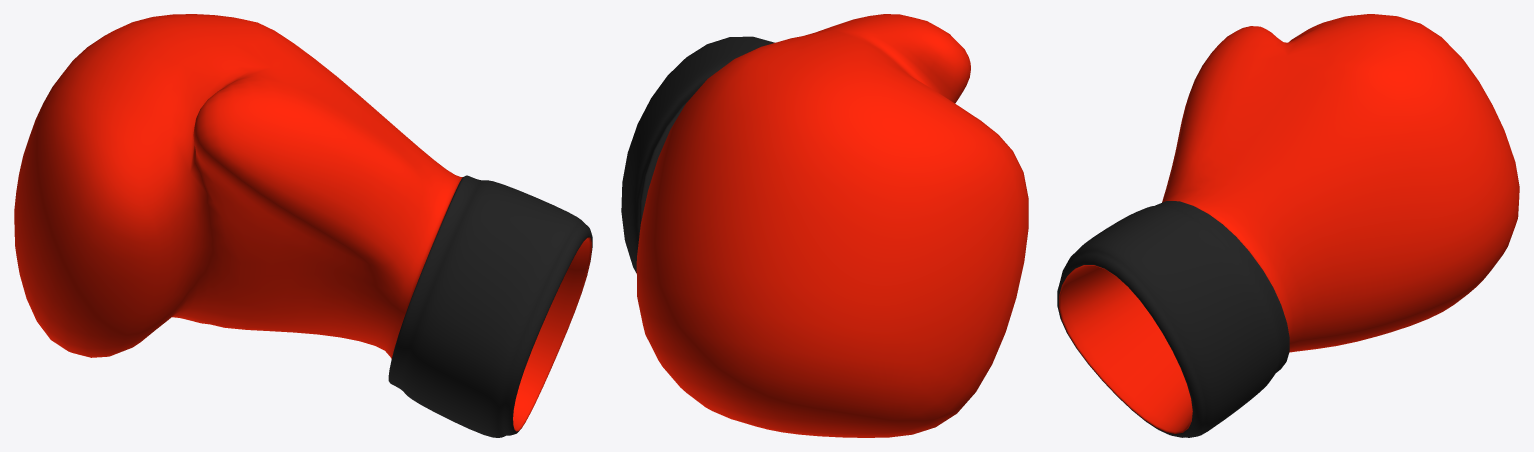
The model's file is right_Damage.fbx.
The picture shows the model from 3 angles, left to right: view 1: azimuth 30°, elevation 25°; view 2: azimuth 150°, elevation 25°; view 3: azimuth 270°, elevation 25°; orthographic projection. The views are drawn at different scales.
Visible parts, largest first — view 1: Boxing_Hand_Right_Damage; view 2: Boxing_Hand_Right_Damage; view 3: Boxing_Hand_Right_Damage.
Boxes of the visible parts, box(x1,y1,x2,y2) form: Boxing_Hand_Right_Damage: box(14, 14, 592, 437); Boxing_Hand_Right_Damage: box(621, 14, 1028, 437); Boxing_Hand_Right_Damage: box(1057, 14, 1519, 437).
Size of the model in its own units: 2.73 by 2.17 by 2.86.
